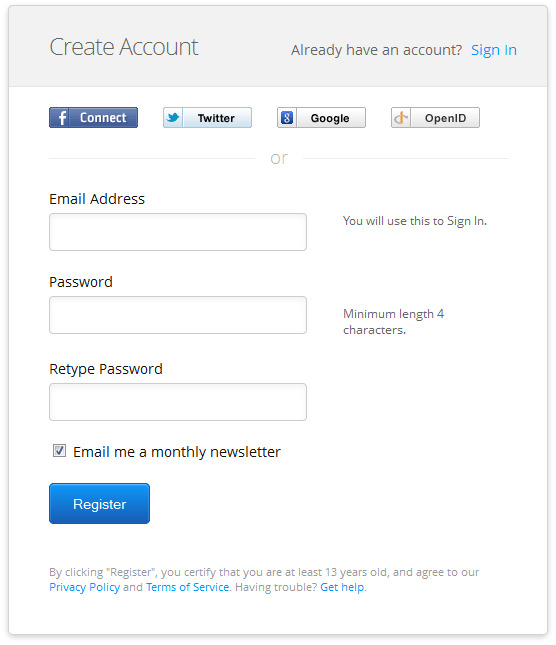_form_: (7, 135, 423, 552), (42, 21, 458, 437)
button: (48, 482, 152, 525), (48, 105, 140, 130), (389, 106, 481, 129), (276, 106, 367, 128), (163, 106, 252, 128)
checkbox: (52, 441, 69, 460)
checkbox_with_label: (49, 441, 281, 461)
field: (48, 209, 308, 252), (47, 379, 307, 422), (50, 294, 307, 334)
field_with_label: (45, 361, 309, 423), (45, 193, 310, 254), (48, 276, 309, 336)
